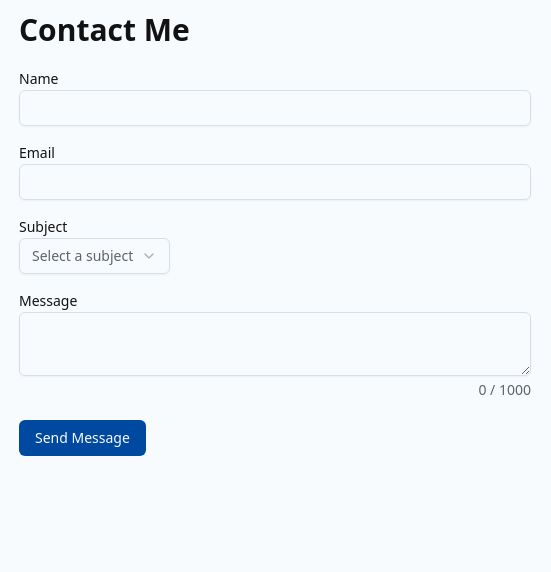
Test: Epic 1 Story 2 — Validation, Character Counter, and Error States › Message field validation › shows error for a 9-character message on submit
Type "123456789" into the text box labelled "Message". click: (275, 344)
box: [19,312,531,376]
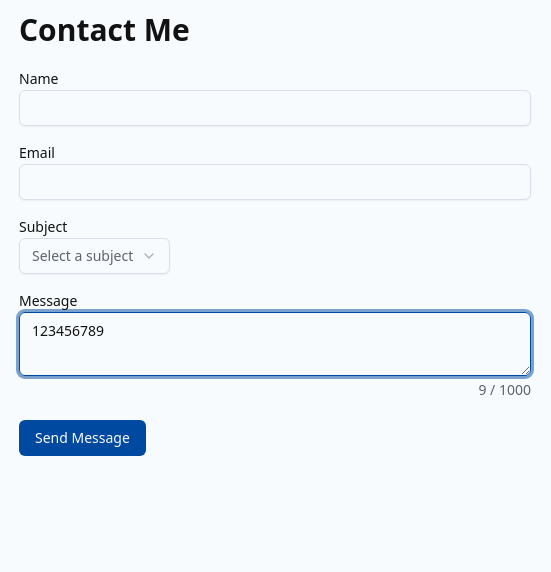
Click the button "Send Message". click: click(82, 438)
box: [19,420,146,456]
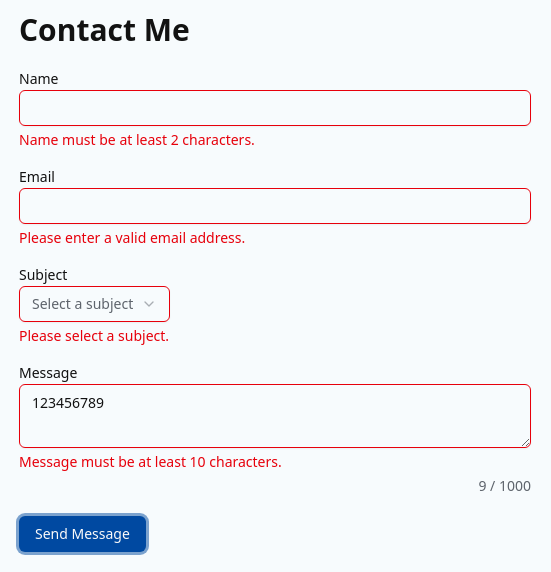
Expected: the text "Message must be at least 10 characters." is shown, [19,452,282,471]
